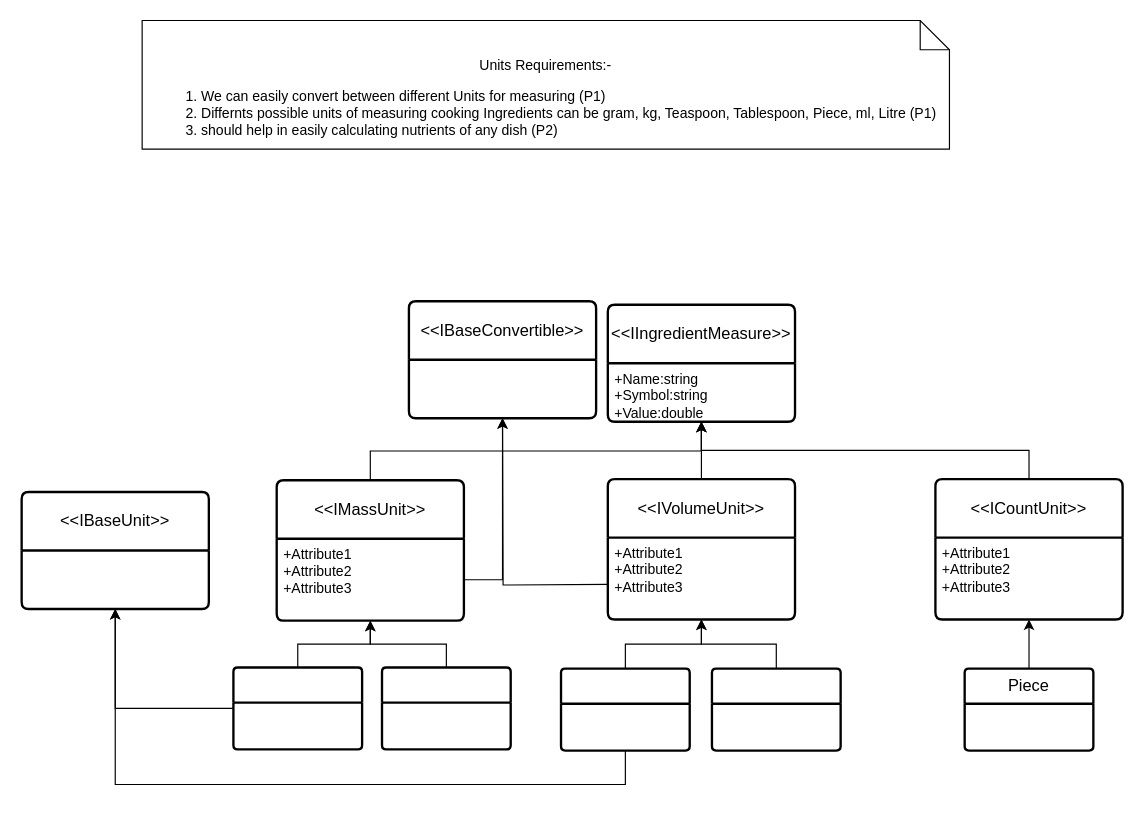
This 1143x814 diagram has some shape labels left out. The centre of each missing label's shape, as x and y in pixels:
Gram: the point at 297,708
Kilogram: the point at 445,708
Litre: the point at 624,709
Teaspoon: the point at 775,709
